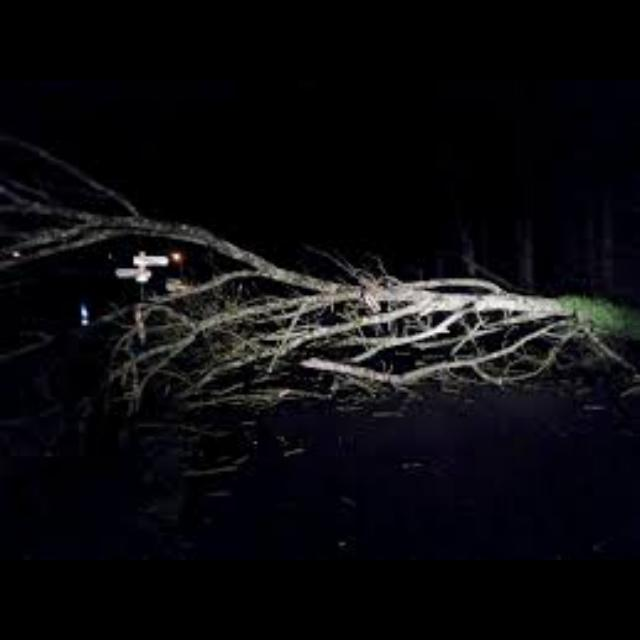Fallen Tree: (209, 252, 639, 380)
